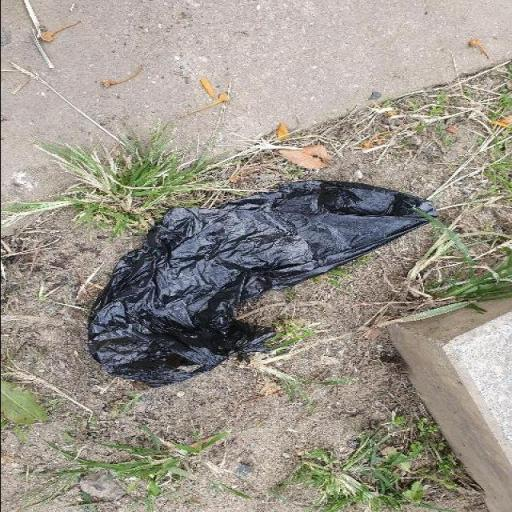plastic-bag: (82, 177, 438, 386)
